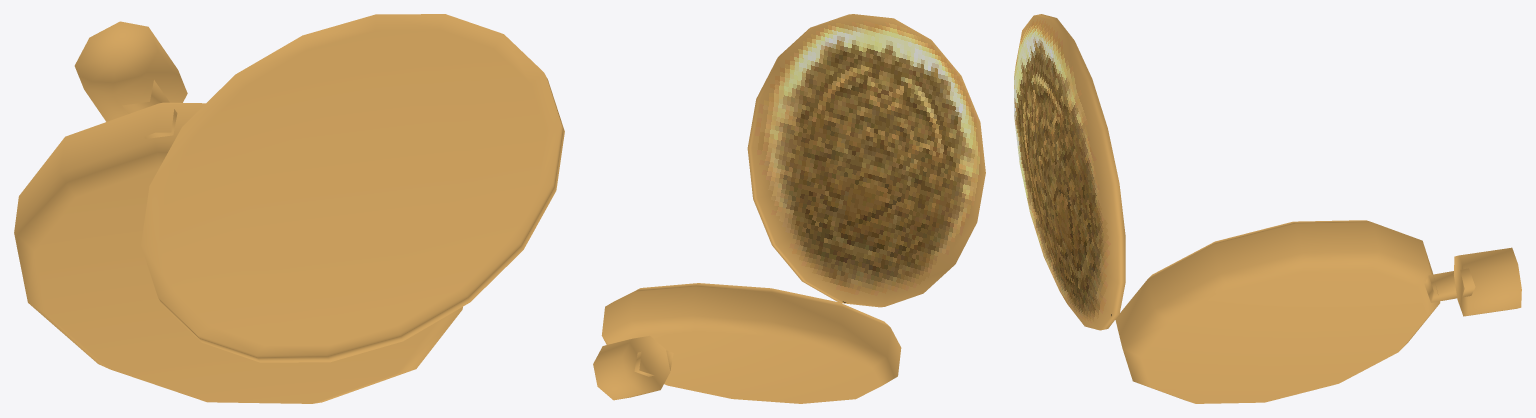
File: ps2_save-icons_missingpartssideb.glb
3 renders of one model, left to right at view 1: azimuth 30°, elevation 25°; view 2: azimuth 150°, elevation 25°; view 3: azimuth 270°, elevation 25°, orthographic. The views are drawn at different scales.
Visible parts, largest first — view 1: icon.dat; view 2: icon.dat; view 3: icon.dat.
Part boxes in pixels (x1,y1,x2,y2): icon.dat: [14, 14, 564, 403]; icon.dat: [593, 14, 985, 403]; icon.dat: [1014, 14, 1521, 403].
Size of the model in its own units: 3.09 by 3.18 by 4.52.
Materials: 1 (1 with a texture image).
